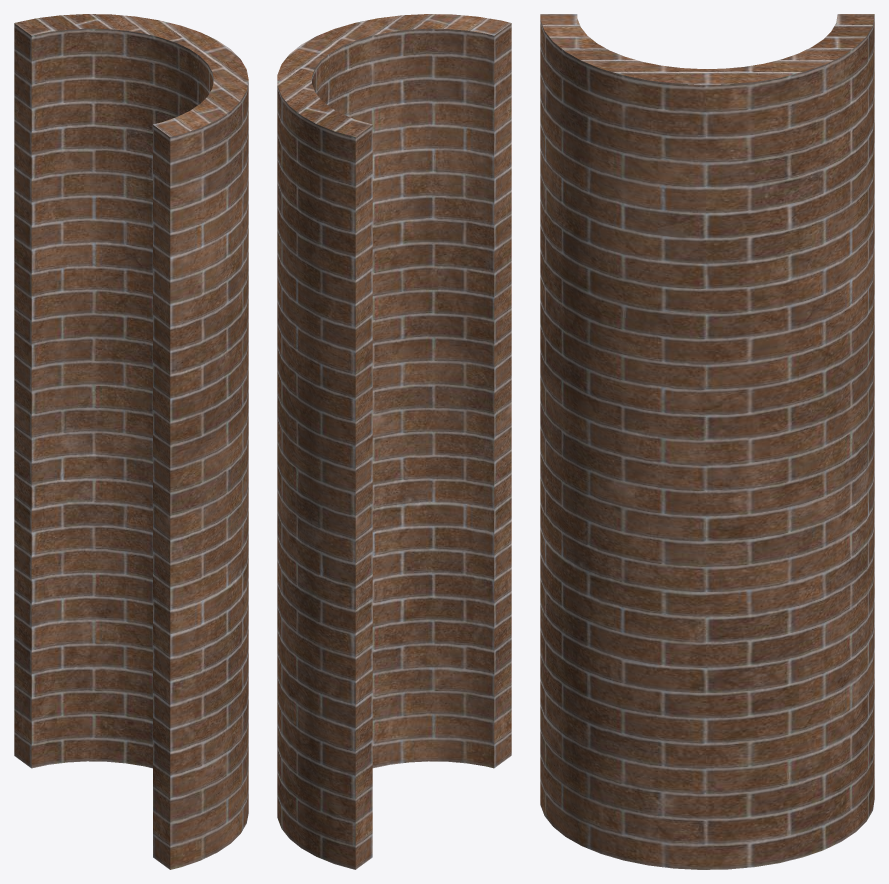
Rendered from Joglo_part_327.fbx.
3 views of the same model, side by side, from view 1: azimuth 30°, elevation 25°; view 2: azimuth 150°, elevation 25°; view 3: azimuth 270°, elevation 25° (orthographic). The views are drawn at different scales.
Visible parts, largest first — view 1: Mesh387_Brick___Brown_0.001; view 2: Mesh387_Brick___Brown_0.001; view 3: Mesh387_Brick___Brown_0.001.
Part boxes in pixels (x1=…): Mesh387_Brick___Brown_0.001: x1=14, y1=14, x2=248, y2=869; Mesh387_Brick___Brown_0.001: x1=277, y1=14, x2=511, y2=869; Mesh387_Brick___Brown_0.001: x1=540, y1=14, x2=874, y2=869.
Size of the model in its own units: 17.76 by 91.79 by 35.42.
